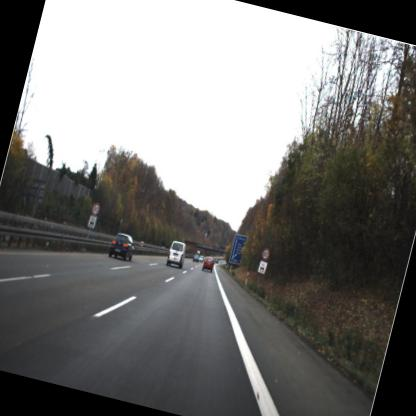prohibitory: (256, 242, 274, 264), (89, 196, 104, 216)
